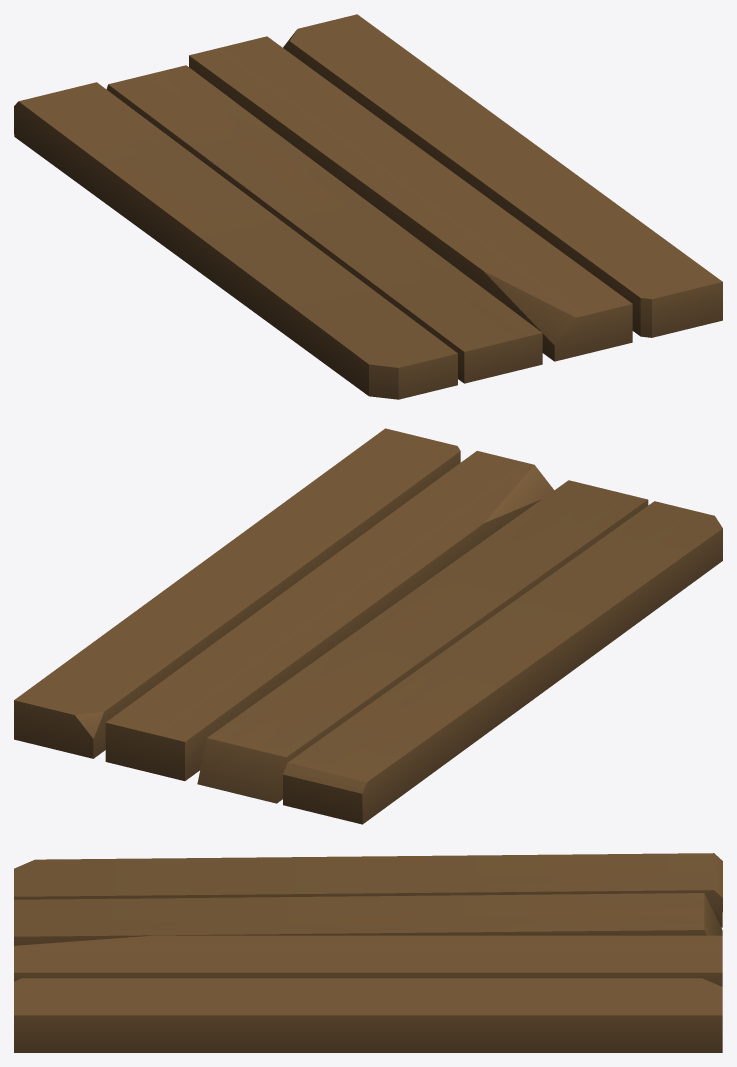
Rendered from Wood002.fbx.
The picture shows the model from 3 angles, top to bottom: view 1: azimuth 30°, elevation 25°; view 2: azimuth 150°, elevation 25°; view 3: azimuth 270°, elevation 25°; orthographic projection. The views are drawn at different scales.
Parts seen in each view (by area): view 1: Cube.021; view 2: Cube.021; view 3: Cube.021.
Part boxes in pixels (left/top/right/bottom): Cube.021: left=14, top=14, right=722, bottom=399; Cube.021: left=14, top=428, right=722, bottom=824; Cube.021: left=14, top=853, right=722, bottom=1052.
Size of the model in its own units: 178 by 19.21 by 329.
